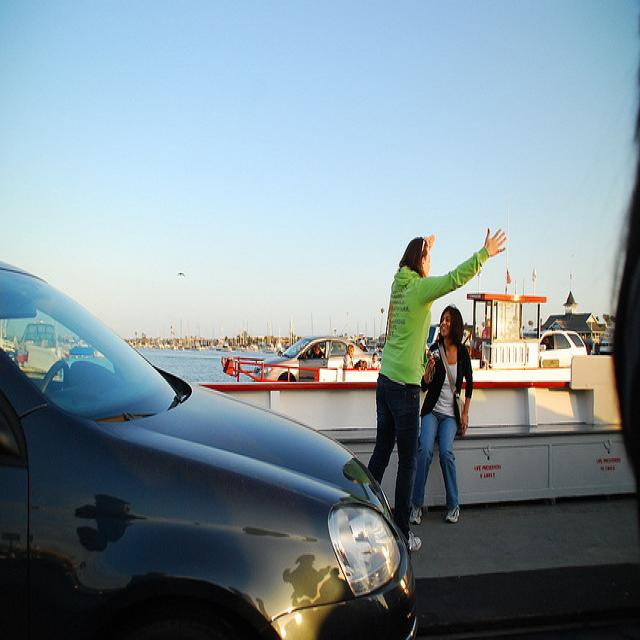Vehicle: (0, 257, 426, 640), (251, 334, 383, 383), (524, 330, 587, 366), (595, 328, 616, 354), (428, 325, 440, 348)
